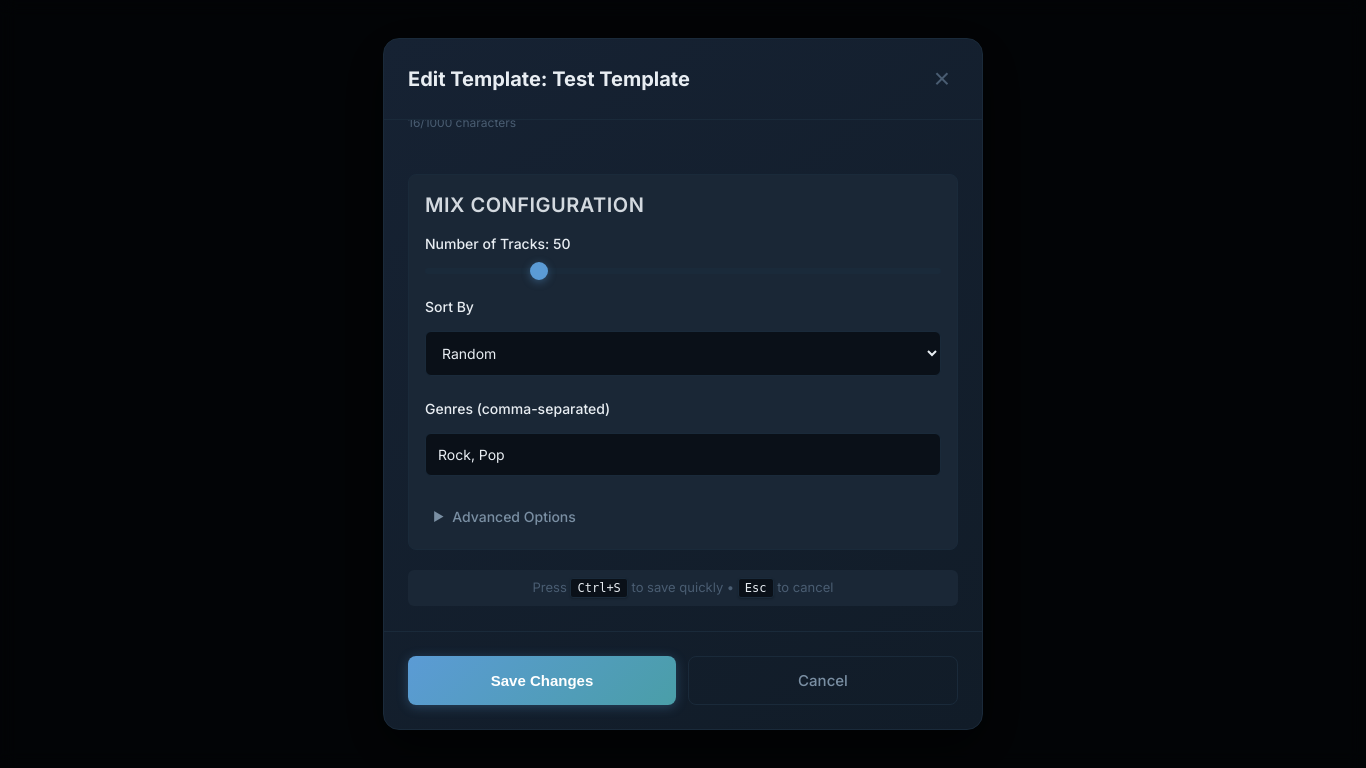
Test: EditTemplateModal › toggles advanced options when clicked
(page scrolled)
Check: the text "Allow duplicate artists" is not shown
// Click to expand
Click the button "▶ Advanced Options" at x=514, y=517, box [425, 500, 941, 533]
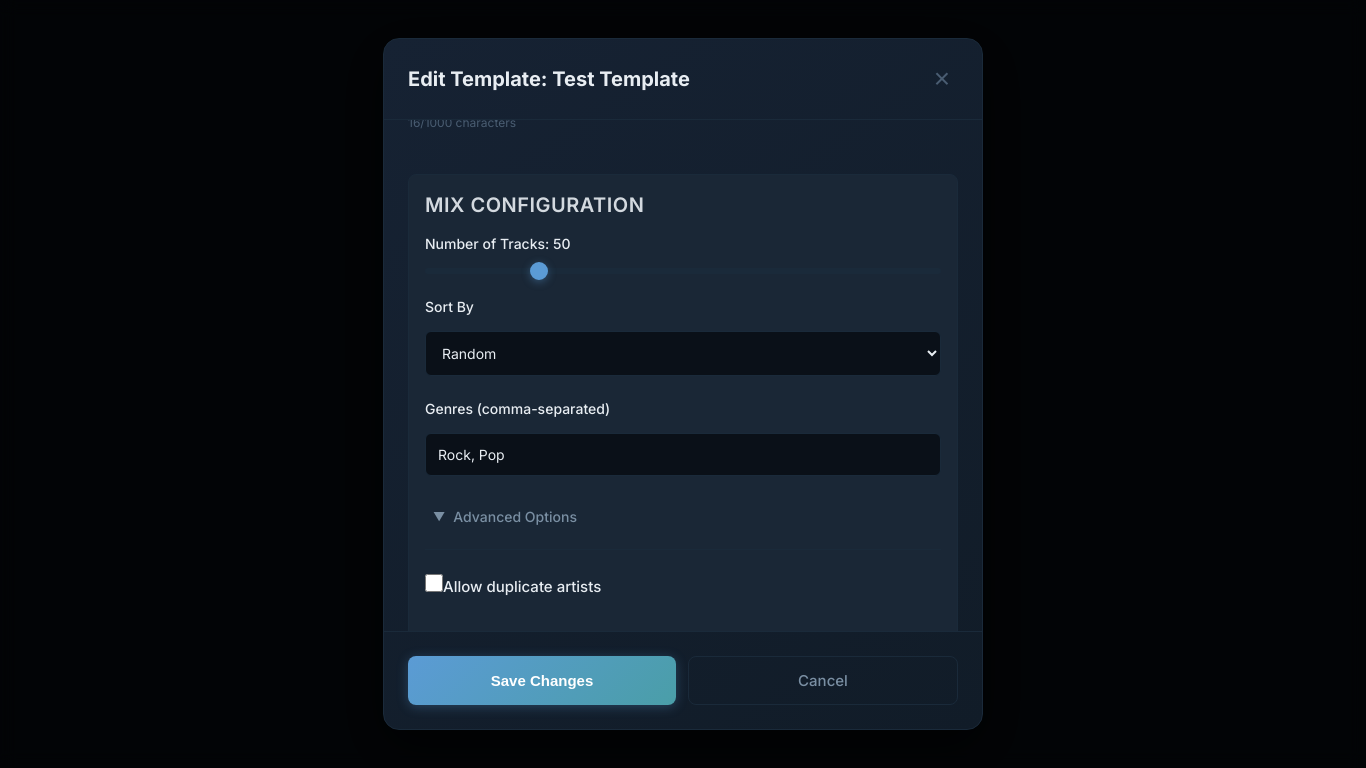
Check: the text "Allow duplicate artists" is shown, box [443, 577, 601, 596]
// Click to collapse
Click the button "▼ Advanced Options" at x=515, y=517, box [425, 500, 941, 533]
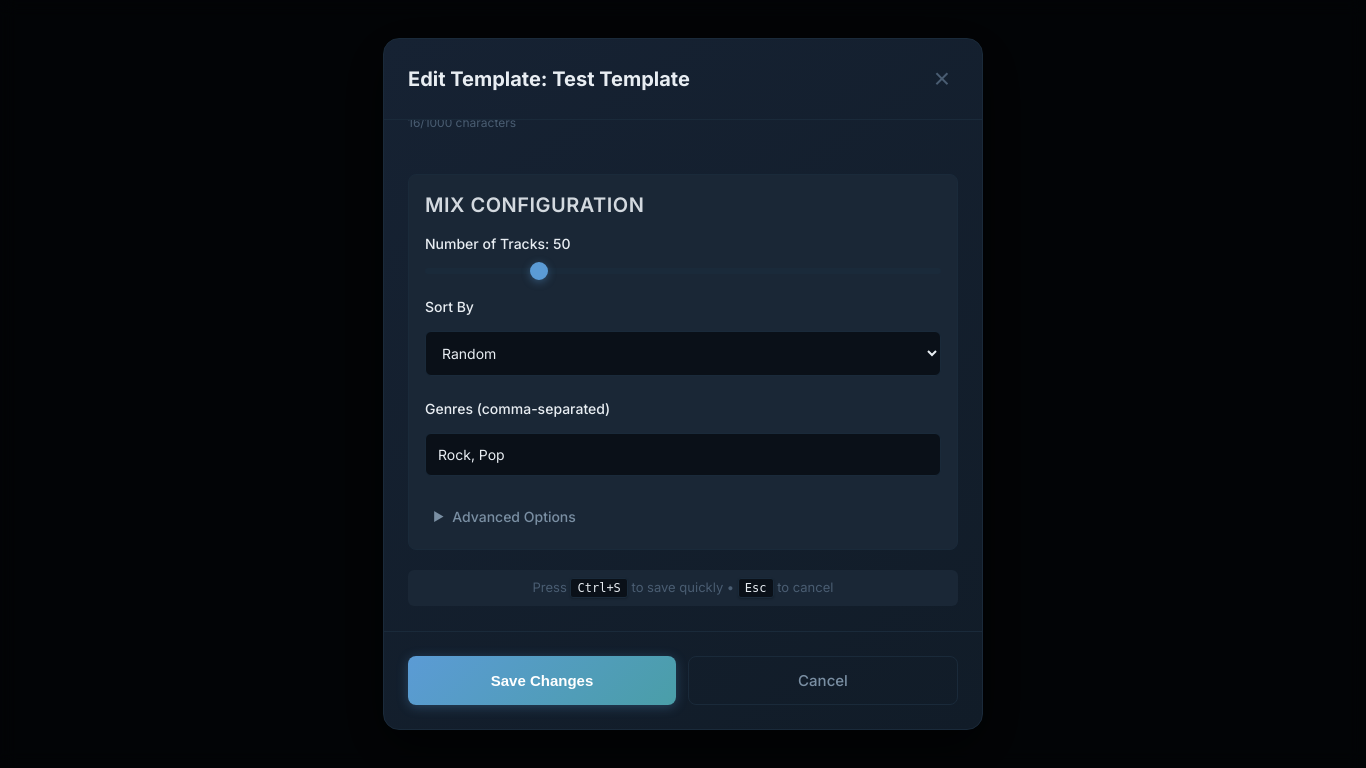
Check: the text "Allow duplicate artists" is gone
